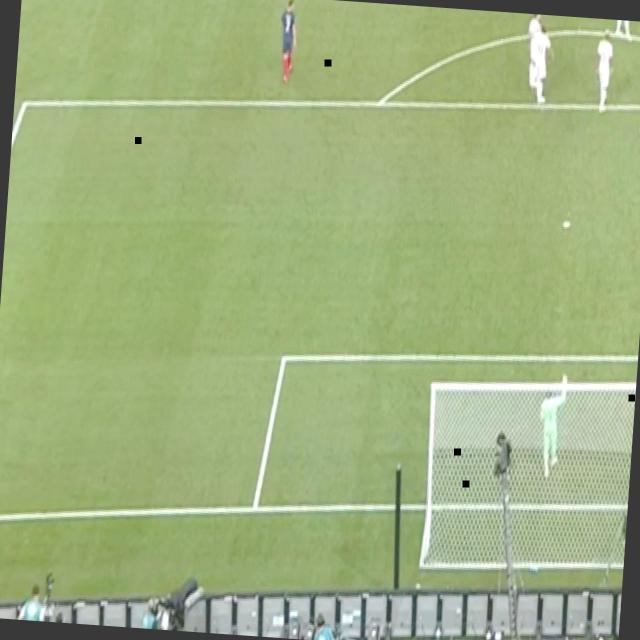player-white: (534, 366, 572, 483), (589, 26, 620, 118), (528, 19, 558, 110), (274, 0, 300, 86), (522, 14, 543, 90), (610, 20, 634, 46)
